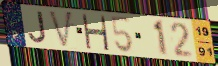1: (153, 18, 171, 58)
2: (168, 21, 195, 59)
5: (110, 16, 134, 55)
H: (80, 13, 111, 52)
J: (28, 11, 49, 45)
V: (47, 10, 74, 51)
